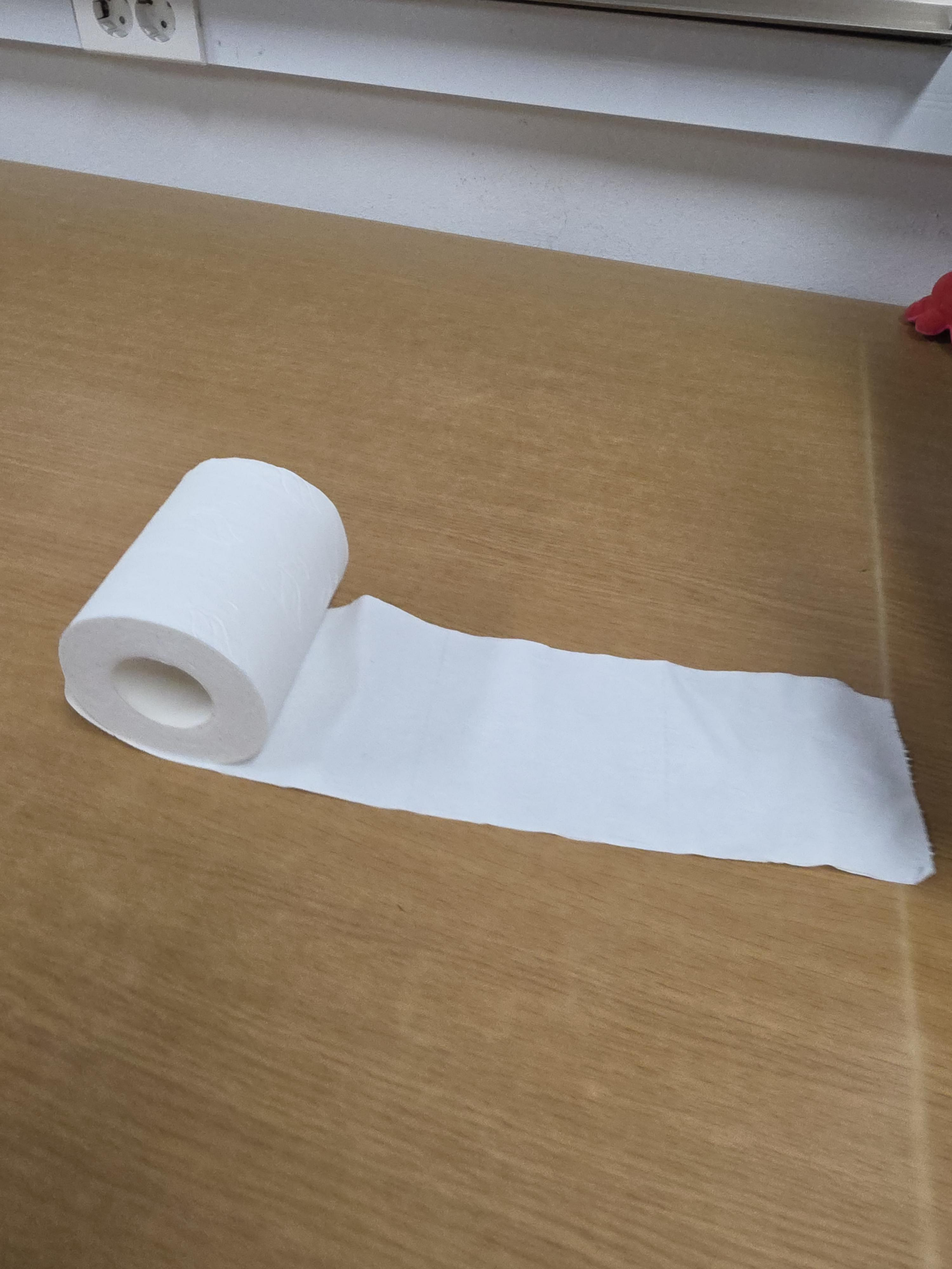tissue: (58, 457, 936, 885)
